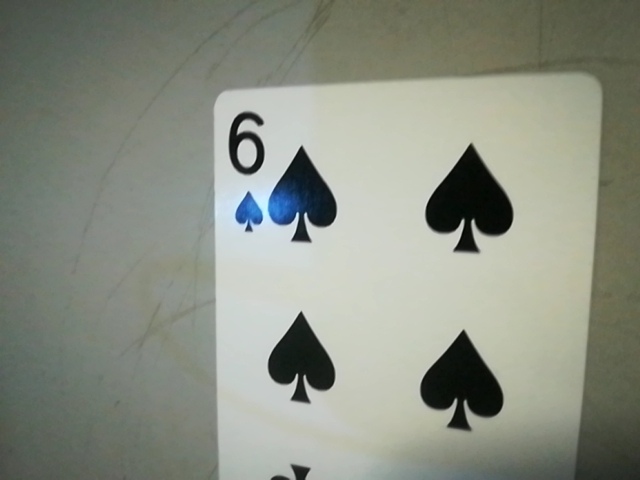ht 6: (216, 101, 277, 237)
